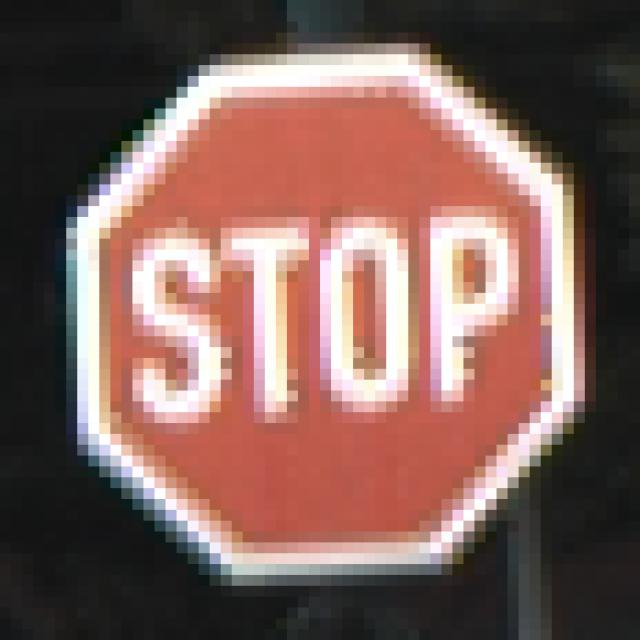STOP: (56, 55, 575, 587)
